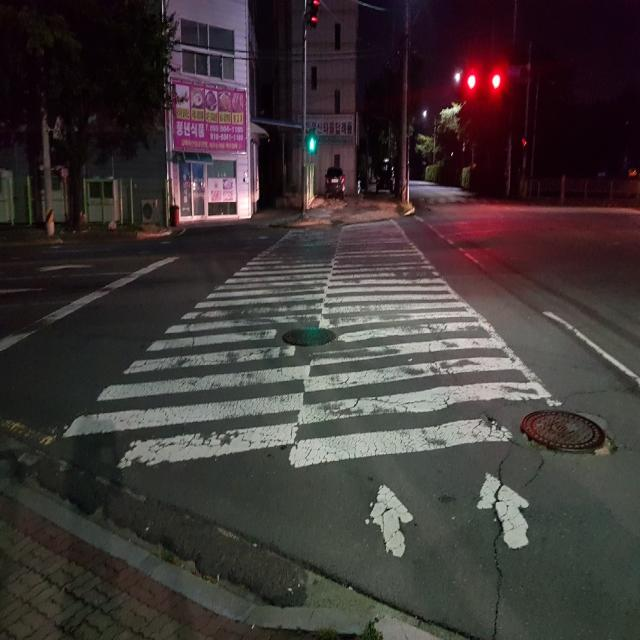초록불: (308, 134, 317, 156)
횡단보도: (61, 217, 548, 562)
